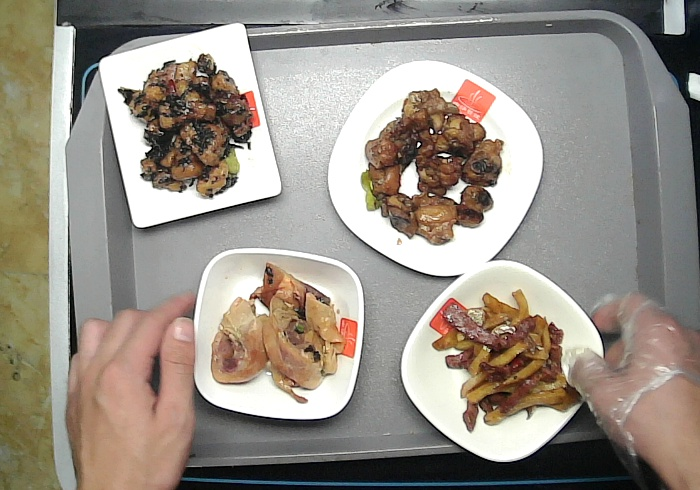SHKJ-Bai_Se_Cai_Die: (400, 260, 604, 463)
SHKJ-Bai_Se_Si_Fang_Cai_Die: (327, 59, 543, 276)
SHKJ-Bai_Se_Xiao_Fang_Die: (191, 247, 365, 422)
SHKJ-Si_Fang_Min: (98, 22, 283, 231)
